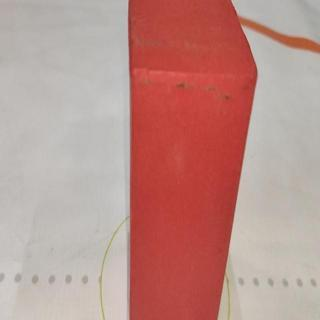redbox: (127, 1, 257, 320)
